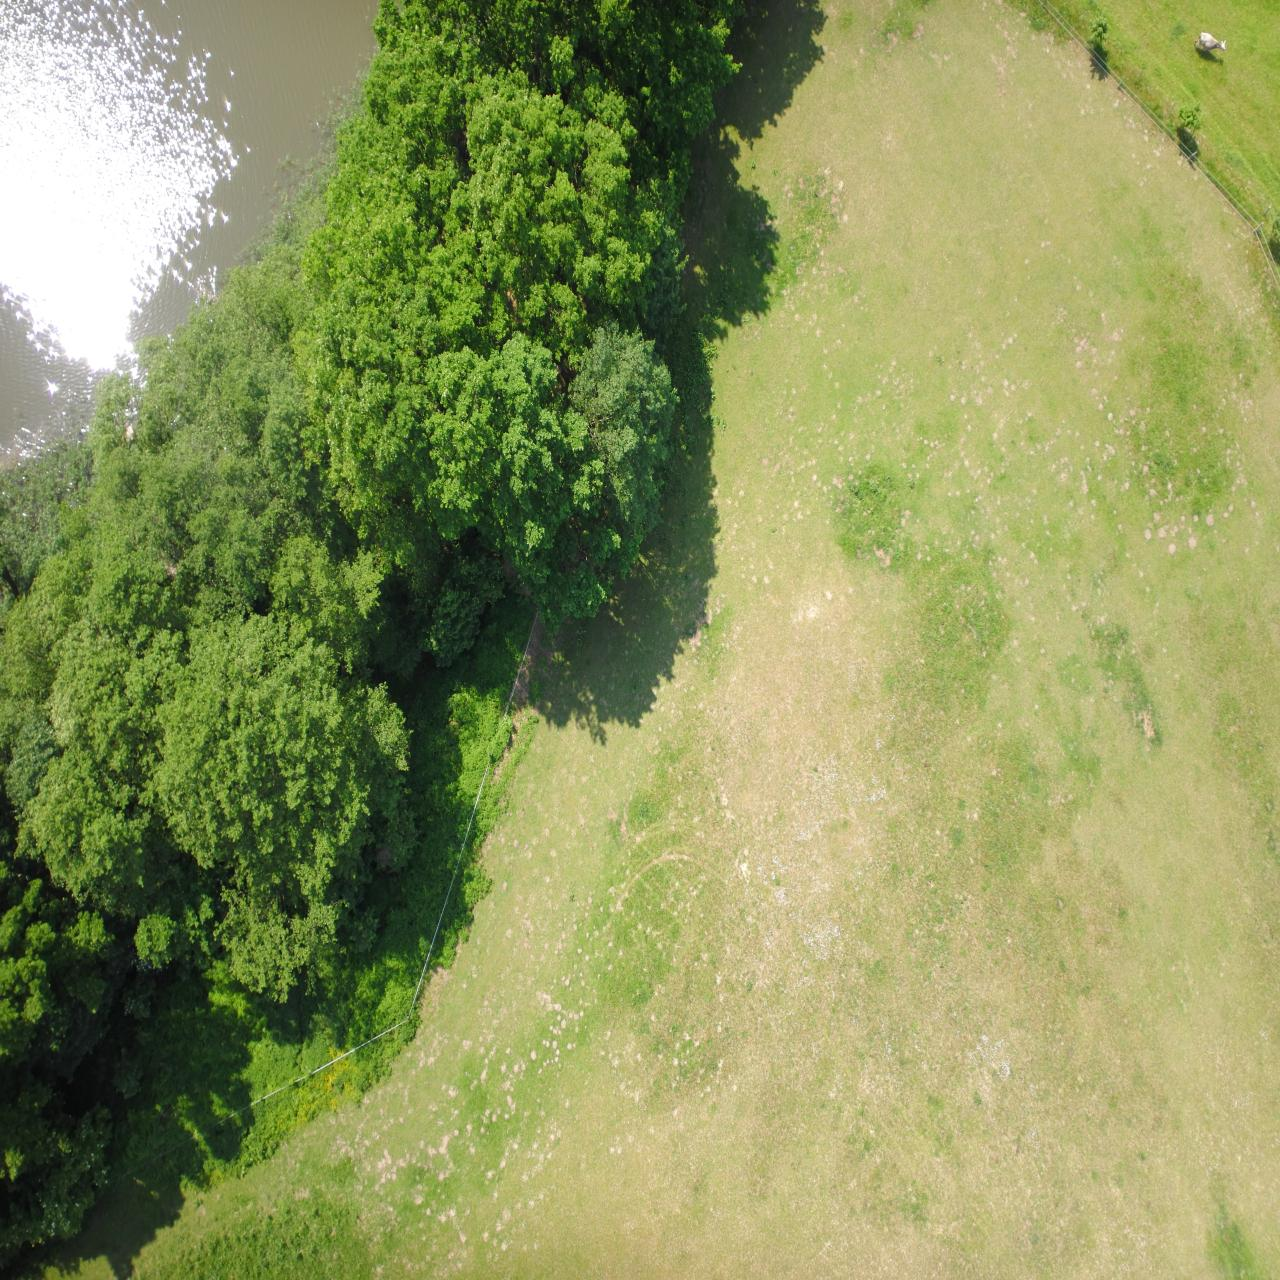cow: (54, 1228, 84, 1247)
